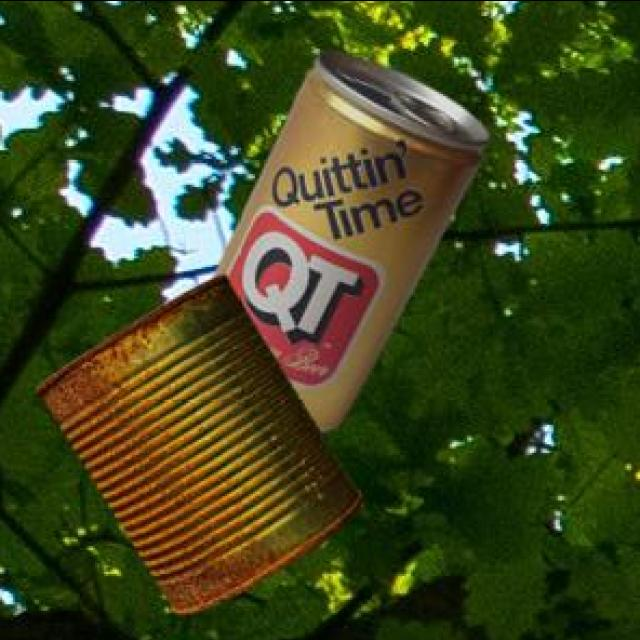logam: (34, 278, 360, 617), (211, 53, 488, 436)
